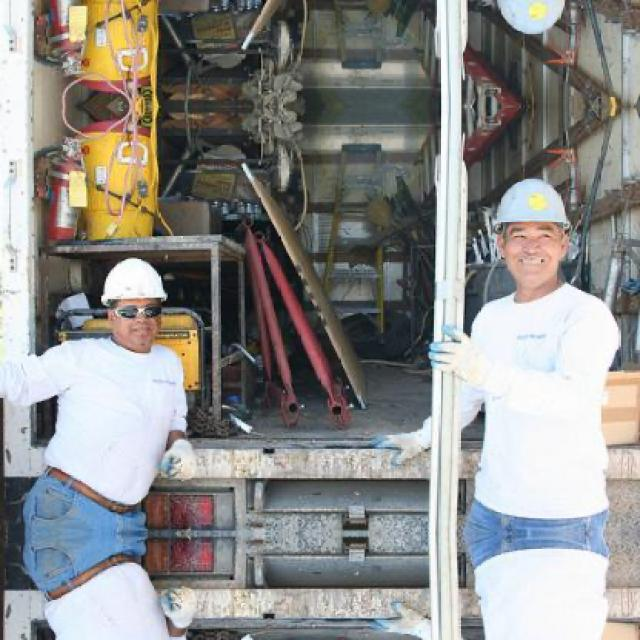helmet: (486, 167, 574, 296), (92, 250, 168, 353), (484, 0, 574, 48)
